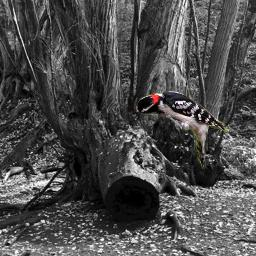Woodpecker: (131, 90, 229, 170)
